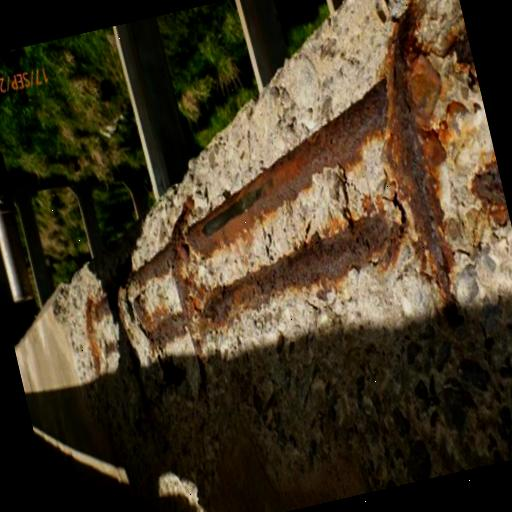spalling: (61, 0, 512, 512)
